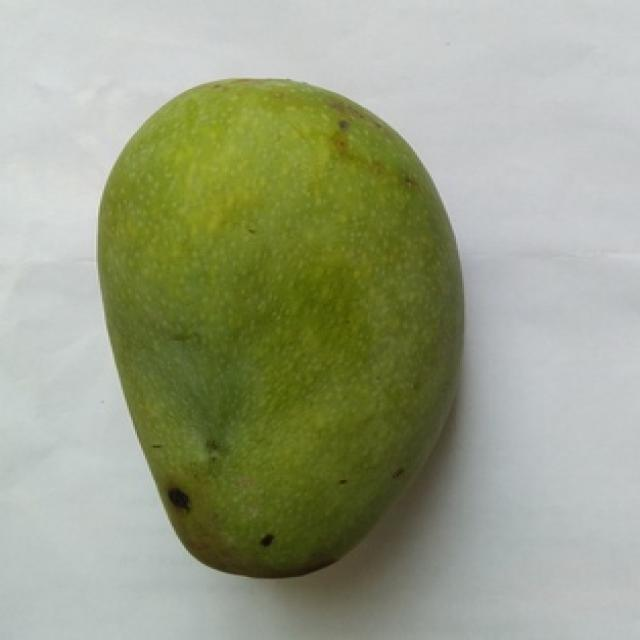Mango: (98, 79, 462, 575)
